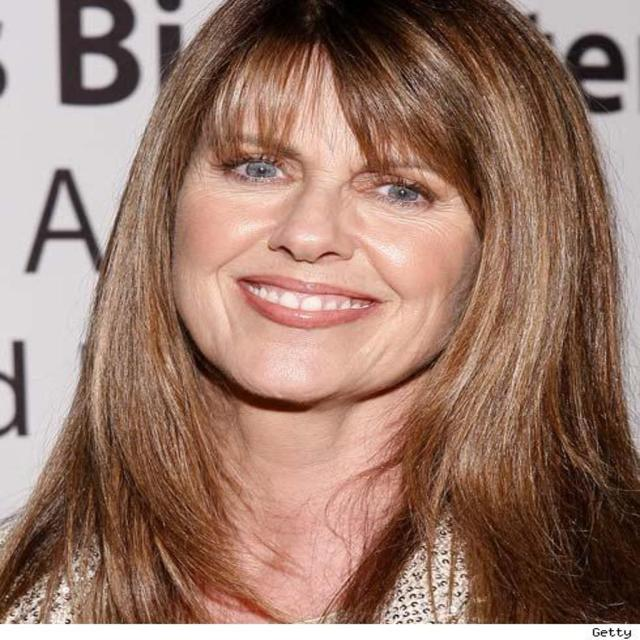Face: (169, 58, 491, 402)
